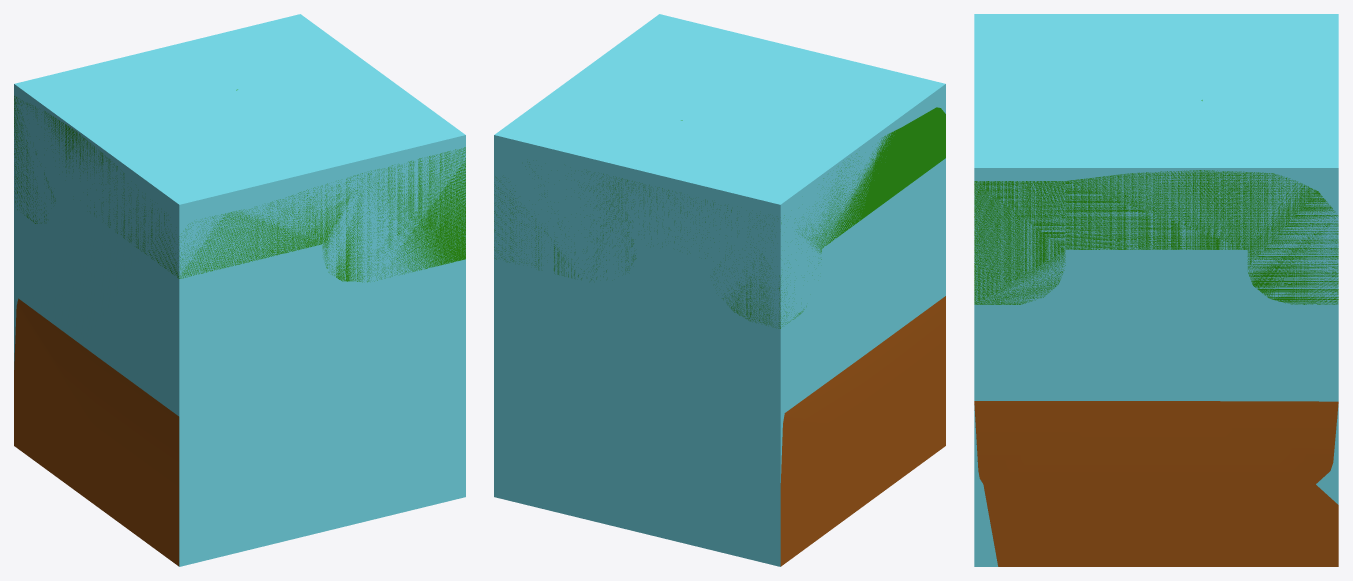
File: PBOX22_Grass_02.FBX
3 renders of one model, left to right at view 1: azimuth 30°, elevation 25°; view 2: azimuth 150°, elevation 25°; view 3: azimuth 270°, elevation 25°, orthographic. The views are drawn at different scales.
Visible parts, largest first — view 1: PBOX22_Grass_02, PBOX22_SUB_TAB_MUD_01, PBOX22_SUB_Grass_02; view 2: PBOX22_Grass_02, PBOX22_SUB_TAB_MUD_01, PBOX22_SUB_Grass_02; view 3: PBOX22_Grass_02, PBOX22_SUB_TAB_MUD_01, PBOX22_SUB_Grass_02.
Boxes of the visible parts, x1,y1,x2,y2 form: PBOX22_Grass_02: (14, 14, 465, 566); PBOX22_SUB_TAB_MUD_01: (14, 298, 179, 566); PBOX22_SUB_Grass_02: (14, 89, 465, 282); PBOX22_Grass_02: (494, 14, 945, 566); PBOX22_SUB_TAB_MUD_01: (780, 296, 945, 566); PBOX22_SUB_Grass_02: (494, 107, 945, 328); PBOX22_Grass_02: (974, 14, 1338, 566); PBOX22_SUB_TAB_MUD_01: (974, 401, 1338, 566); PBOX22_SUB_Grass_02: (974, 100, 1338, 304).
Size of the model in its own units: 12 by 14.5 by 12.
